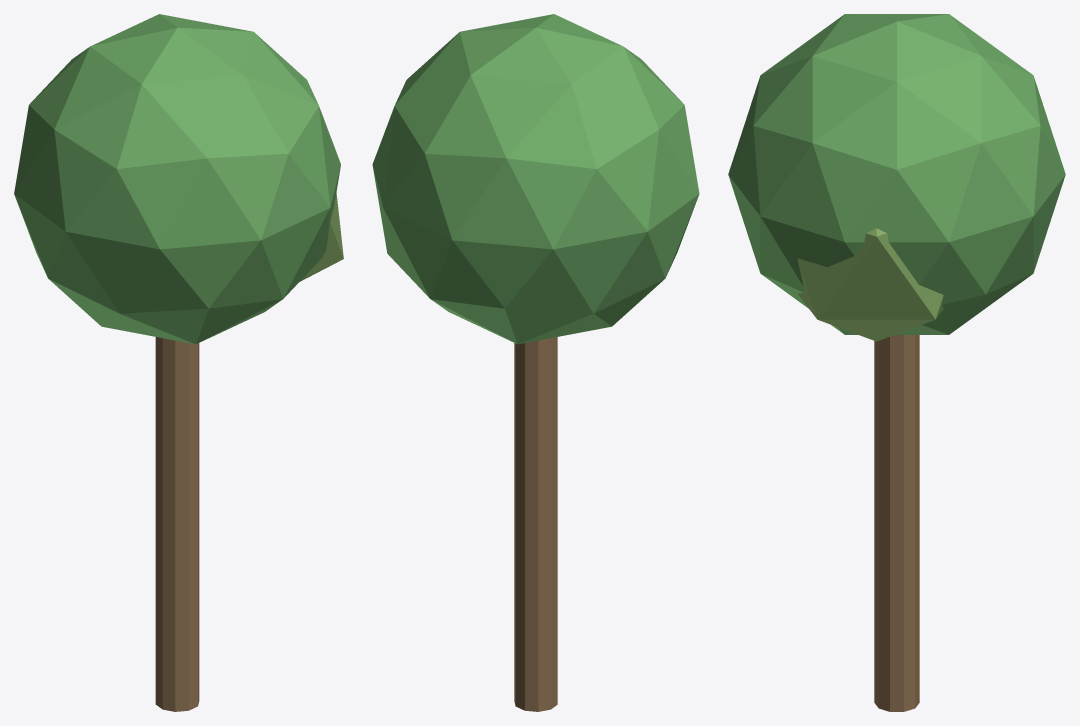
File: tree_v2_02.glb
3 renders of one model, left to right at view 1: azimuth 30°, elevation 25°; view 2: azimuth 150°, elevation 25°; view 3: azimuth 270°, elevation 25°, orthographic.
Visible parts, largest first — view 1: A.001, Trunk.003, B.001; view 2: A.001, Trunk.003; view 3: A.001, Trunk.003, B.001.
Boxes of the visible parts, x1,y1,x2,y2 form: A.001: (14,14,340,344); Trunk.003: (155,337,199,711); B.001: (300,192,343,281); A.001: (372,14,699,344); Trunk.003: (514,337,557,711); A.001: (728,14,1065,334); Trunk.003: (874,335,919,711); B.001: (797,228,943,341).
Bounding box in the file's own units: 3.2 × 7.35 × 3.3.
